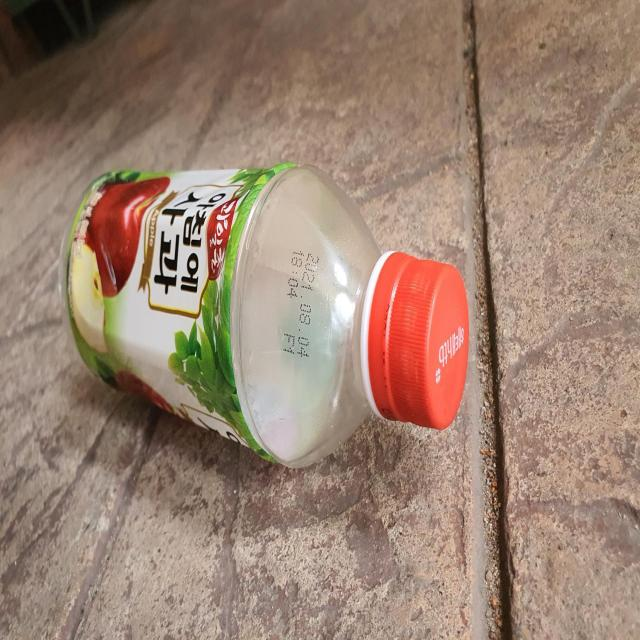plastic: (60, 163, 470, 467)
